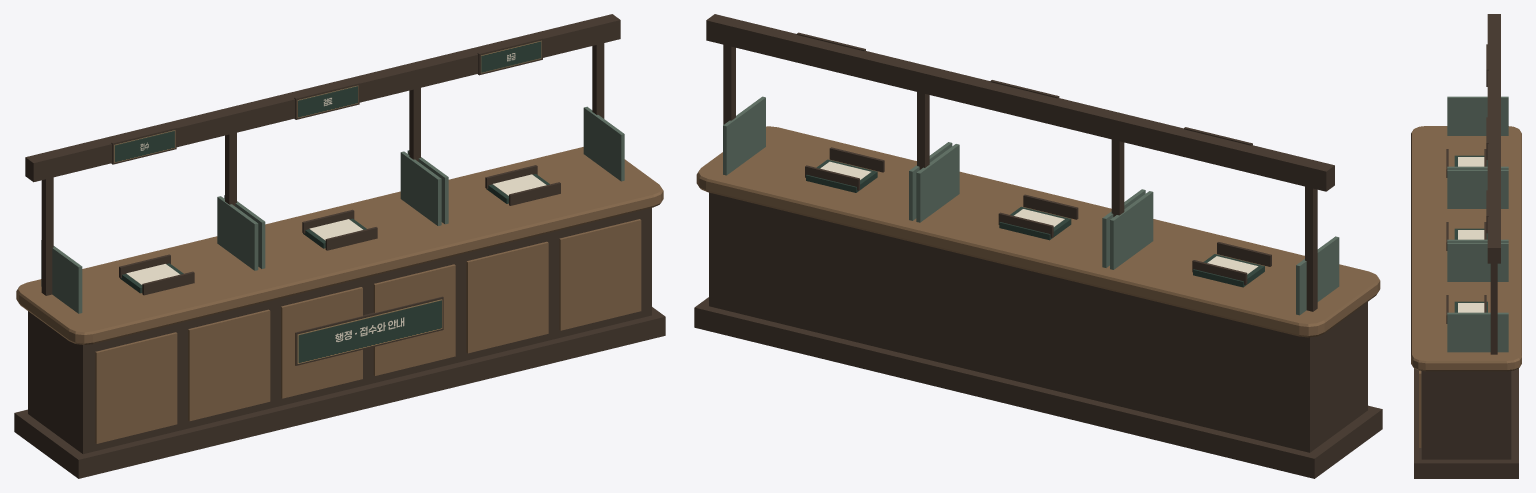
Rendered from 03_Administration_Counter.fbx.
3 renders of one model, left to right at view 1: azimuth 30°, elevation 25°; view 2: azimuth 150°, elevation 25°; view 3: azimuth 270°, elevation 25°, orthographic. The views are drawn at different scales.
Parts seen in each view (by area): view 1: 03_Administration_Counter__Structure, 03_Administration_Counter; view 2: 03_Administration_Counter__Structure, 03_Administration_Counter; view 3: 03_Administration_Counter__Structure, 03_Administration_Counter.
Boxes of the visible parts, x1=… form: 03_Administration_Counter__Structure: x1=14, y1=14, x2=665, y2=478; 03_Administration_Counter: x1=41, y1=37, x2=624, y2=313; 03_Administration_Counter__Structure: x1=694, y1=14, x2=1382, y2=478; 03_Administration_Counter: x1=723, y1=32, x2=1339, y2=315; 03_Administration_Counter__Structure: x1=1411, y1=14, x2=1521, y2=478; 03_Administration_Counter: x1=1446, y1=44, x2=1508, y2=352.
Size of the model in its own units: 585 by 268 by 116.
Materials: 1 (1 with a texture image).
